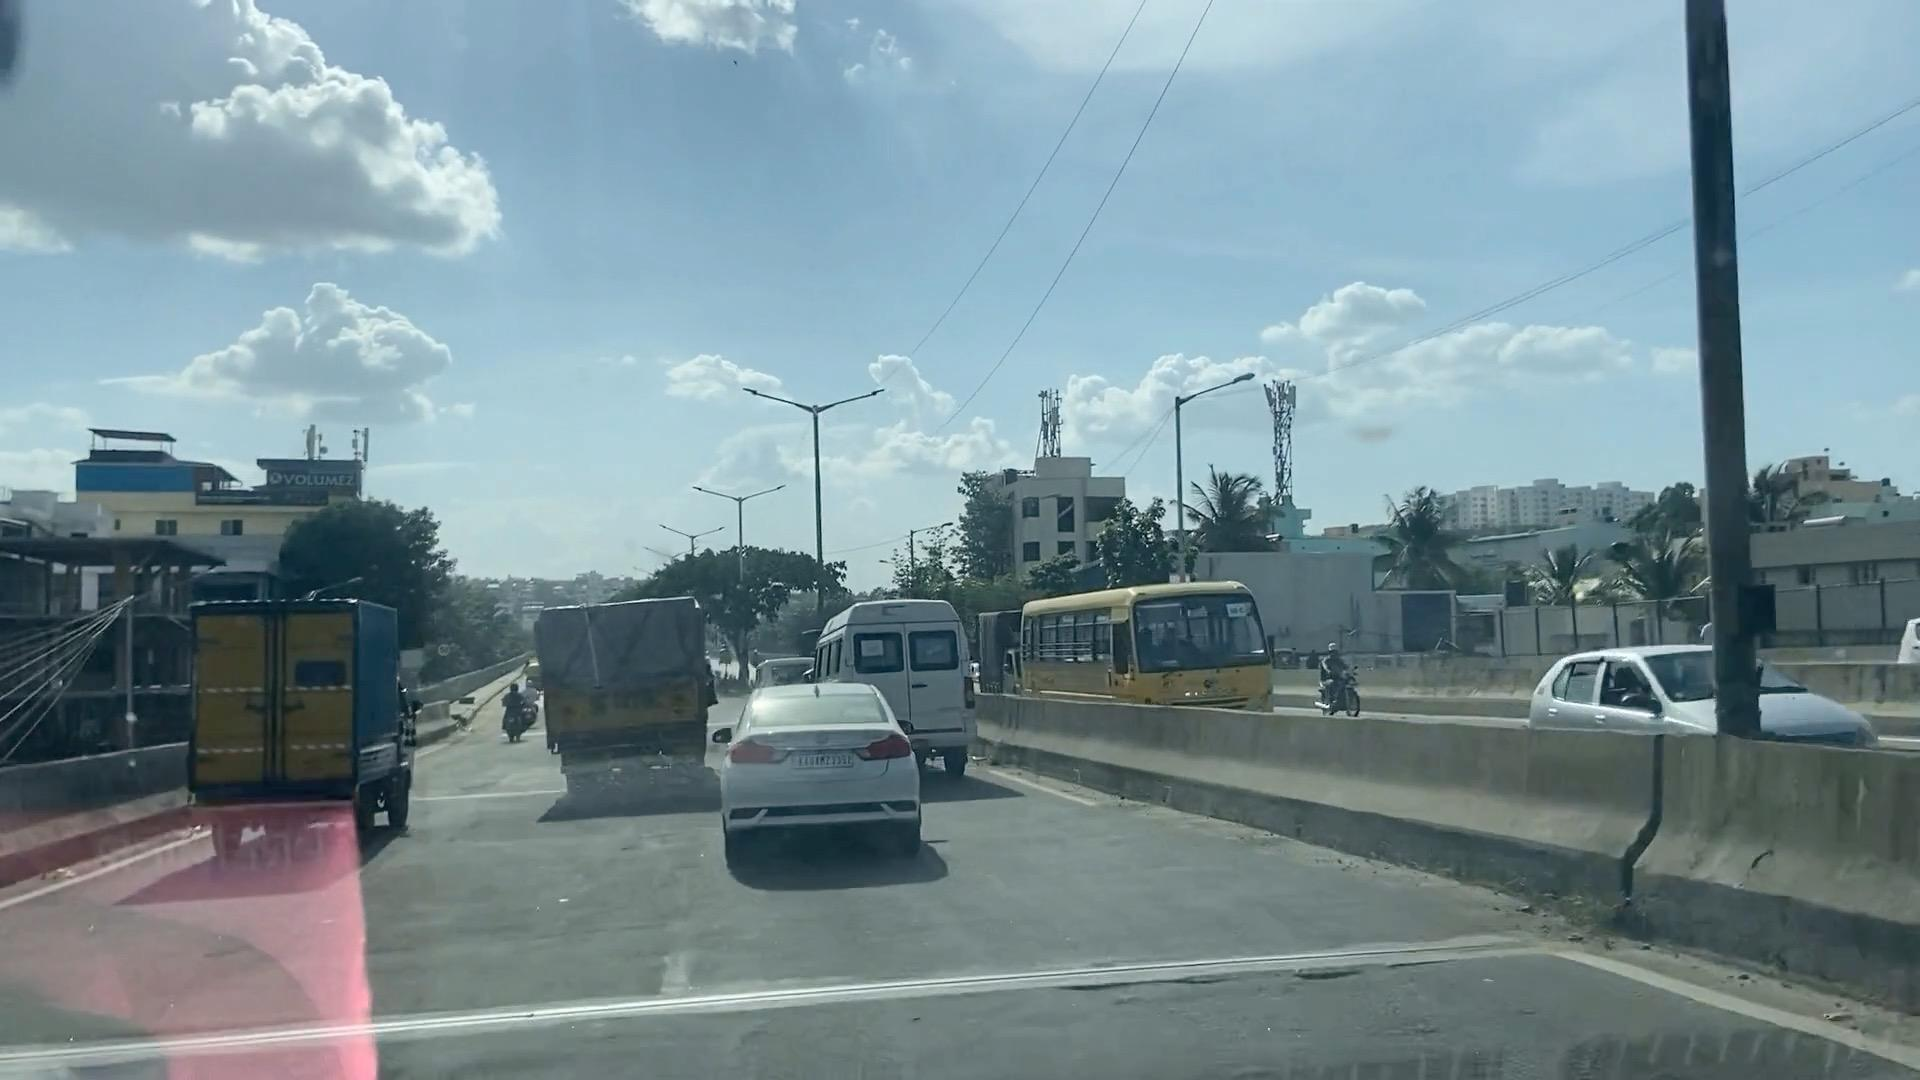HMV: (211, 592, 398, 852), (541, 613, 711, 787)
LMV: (720, 680, 923, 857)
UnsurfacedRoad: (15, 890, 1514, 1080)
